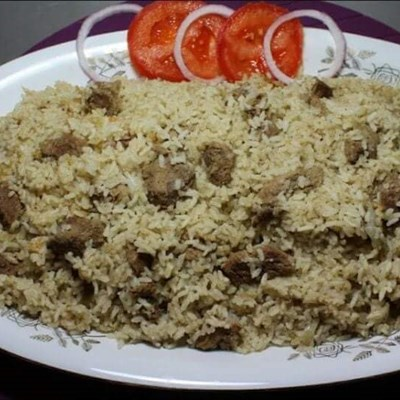tehari: (1, 54, 400, 353)
